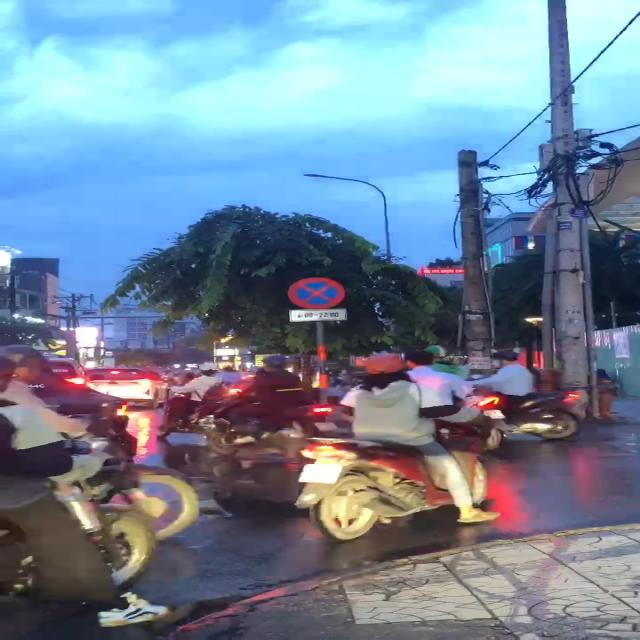Bien bao cam dung xe va do xe: (285, 274, 348, 308)
